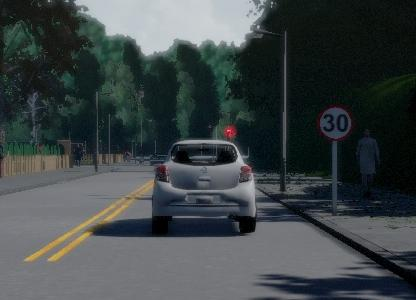Speed_30: (315, 102, 355, 145)
